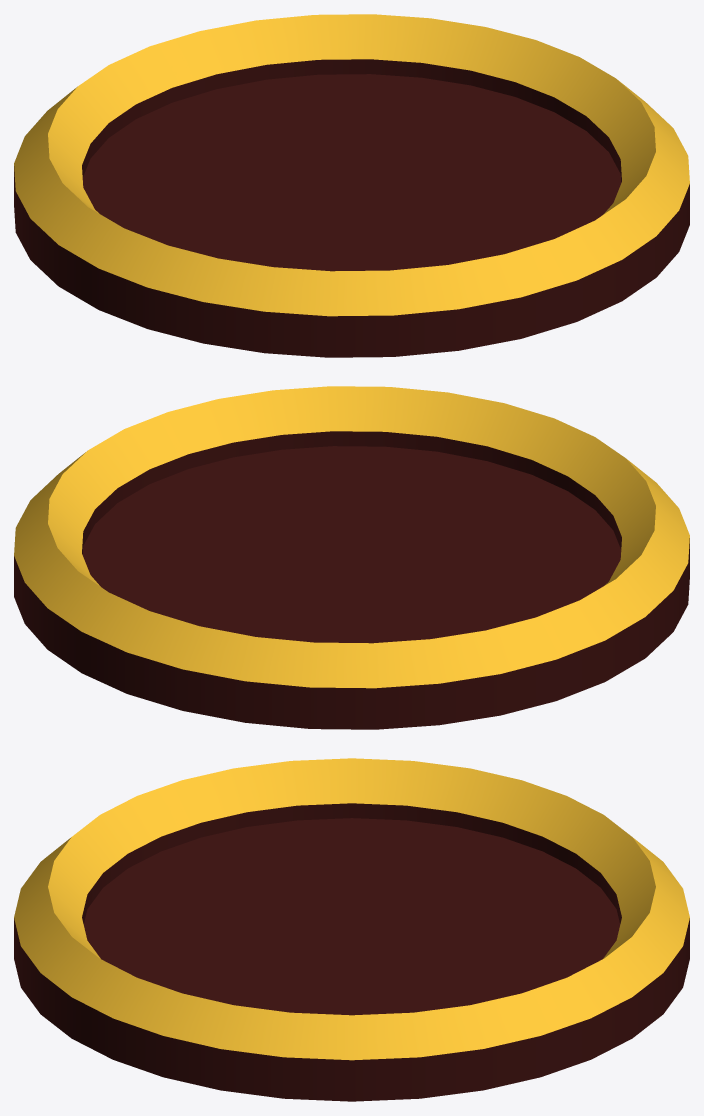
File: Железный токен 2.fbx
3 views of the same model, one above another, from view 1: azimuth 30°, elevation 25°; view 2: azimuth 150°, elevation 25°; view 3: azimuth 270°, elevation 25° (orthographic).
Parts seen in each view (by area): view 1: BezierCircle.006; view 2: BezierCircle.006; view 3: BezierCircle.006.
Part boxes in pixels (box(x1,y1,x2,y2)): BezierCircle.006: box(14, 14, 689, 357); BezierCircle.006: box(14, 386, 689, 729); BezierCircle.006: box(14, 758, 689, 1101).
Size of the model in its own units: 0.5723 by 0.5723 by 0.0673.
